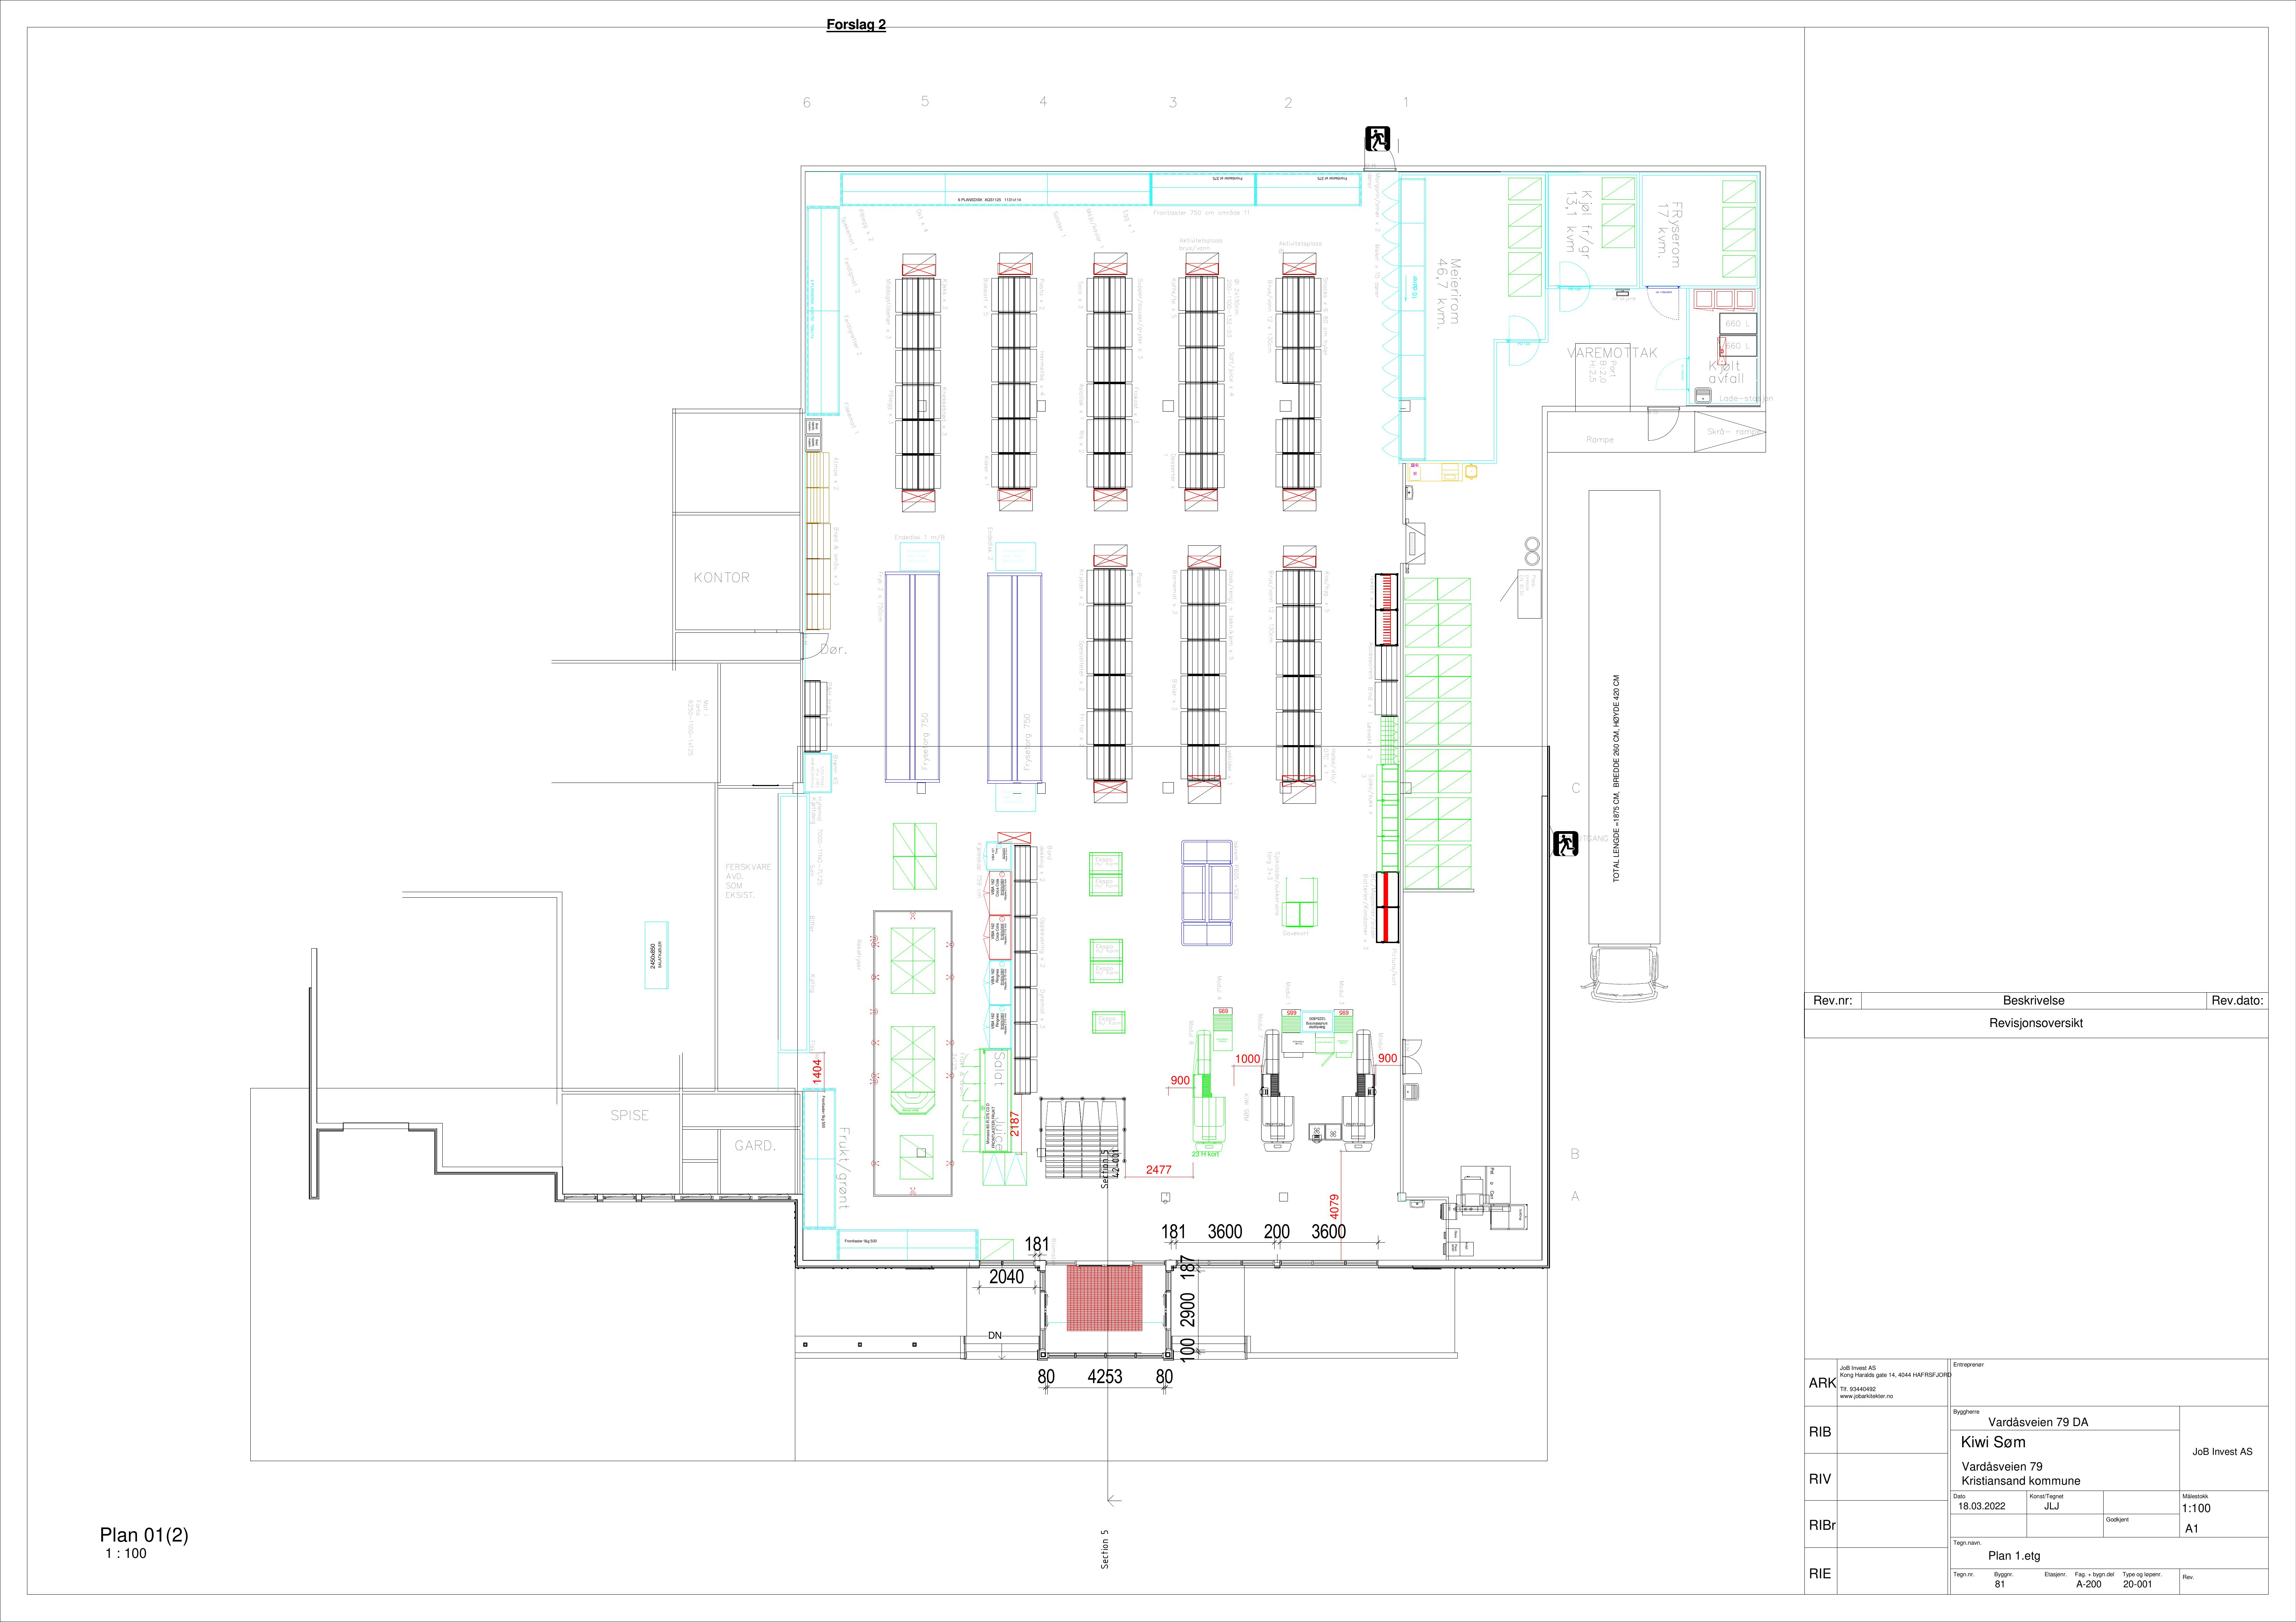plantegning: (555, 165, 1777, 1396)
